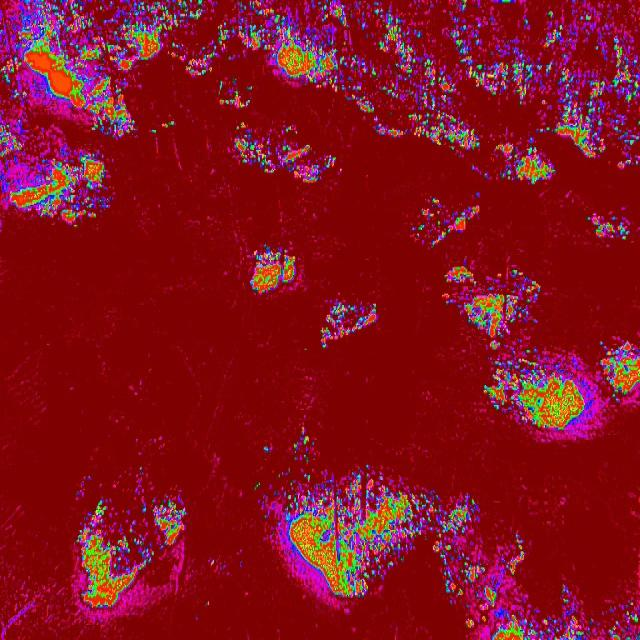fire: (136, 0, 640, 84), (0, 0, 136, 222), (282, 472, 430, 592), (74, 490, 189, 620), (433, 499, 528, 640), (486, 344, 598, 436), (438, 260, 542, 345), (344, 84, 480, 147), (544, 84, 640, 166), (228, 126, 336, 198), (528, 597, 640, 640), (409, 192, 482, 250), (588, 330, 640, 404), (498, 136, 558, 192), (314, 301, 382, 347), (248, 242, 298, 294), (586, 207, 638, 245)
